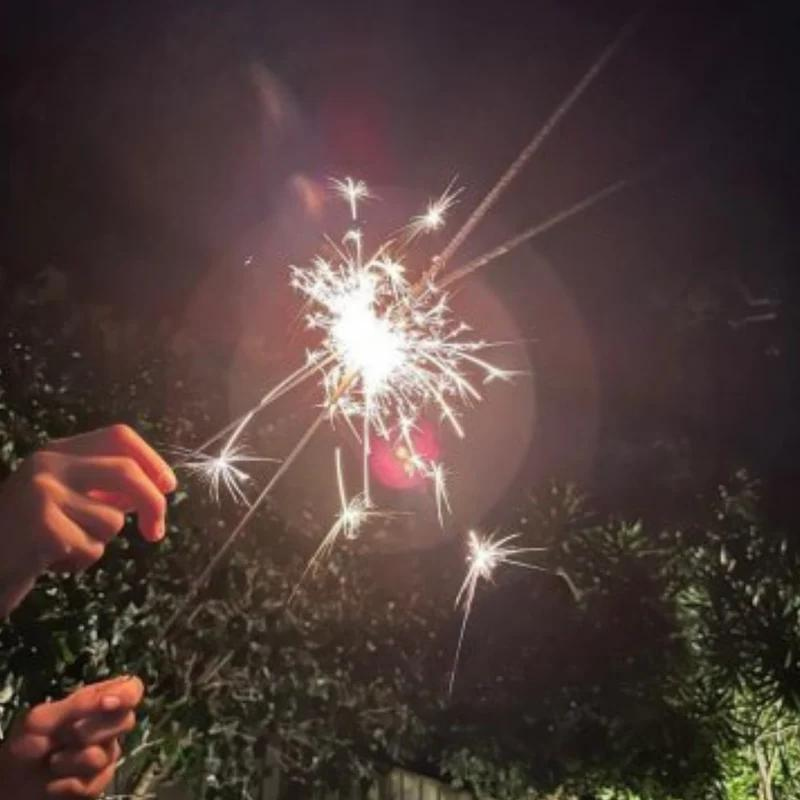controlled_fire: (154, 183, 705, 649)
